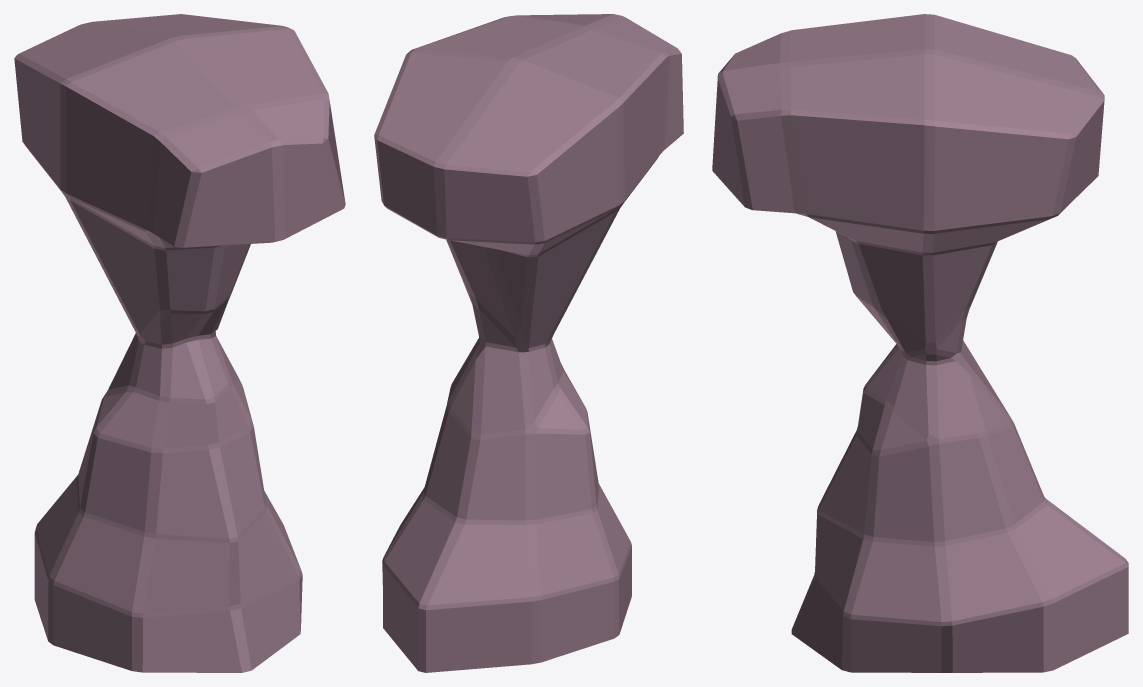
File: Factory_Rock_2.fbx
3 views of the same model, side by side, from view 1: azimuth 30°, elevation 25°; view 2: azimuth 150°, elevation 25°; view 3: azimuth 270°, elevation 25° (orthographic). The views are drawn at different scales.
Parts seen in each view (by area): view 1: Factory Rock 2; view 2: Factory Rock 2; view 3: Factory Rock 2.
Part boxes in pixels (bbox=[...]): Factory Rock 2: bbox=[14, 14, 345, 672]; Factory Rock 2: bbox=[374, 14, 683, 672]; Factory Rock 2: bbox=[712, 14, 1128, 672].
Size of the model in its own units: 2740 by 6593 by 4270.
